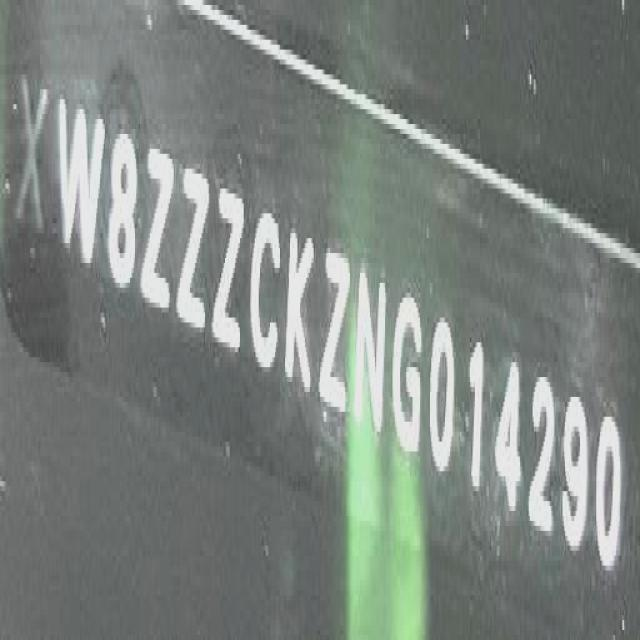0: (596, 393, 626, 579), (428, 303, 459, 483)
1: (467, 323, 488, 504)
2: (528, 356, 558, 549)
4: (494, 338, 526, 528)
8: (108, 114, 140, 300)
9: (563, 386, 589, 564)
C: (249, 196, 282, 380)
G: (391, 283, 425, 480)
K: (284, 218, 316, 400)
W: (54, 76, 104, 276), (353, 249, 392, 445)
X: (20, 64, 51, 245)
Z: (144, 130, 176, 328), (180, 152, 212, 342), (213, 172, 244, 364), (320, 231, 350, 429)
